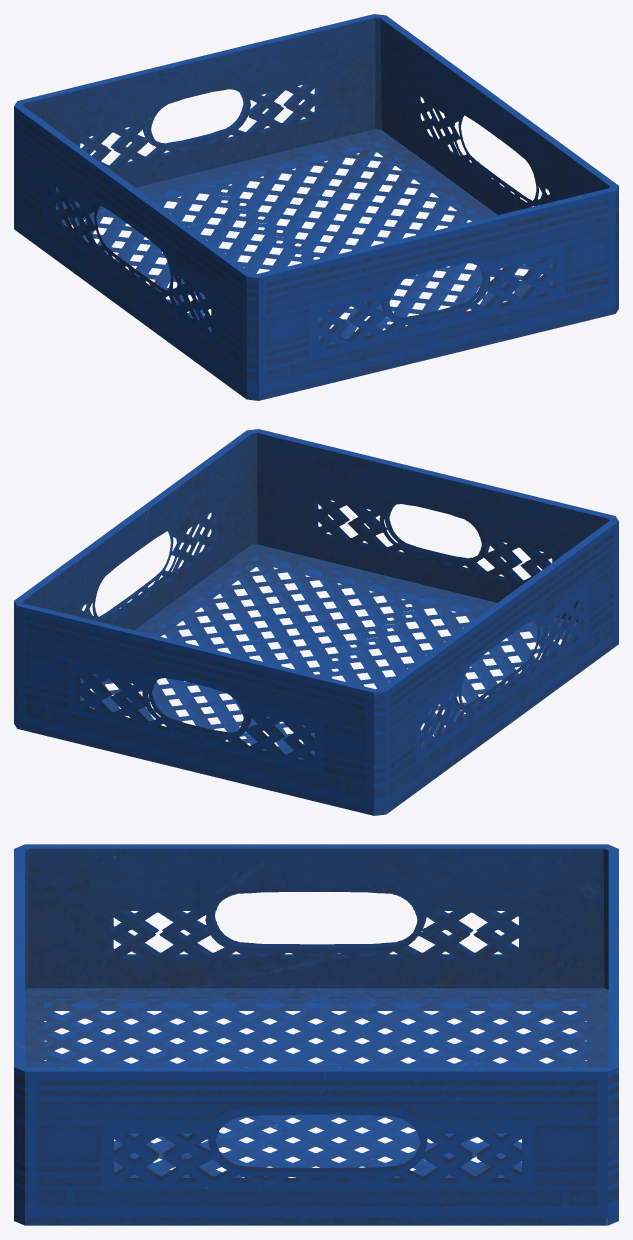
File: Prop_Vegetable_Box_Blue.fbx
3 views of the same model, one above another, from view 1: azimuth 30°, elevation 25°; view 2: azimuth 150°, elevation 25°; view 3: azimuth 270°, elevation 25° (orthographic). The views are drawn at different scales.
Parts seen in each view (by area): view 1: Prop_Vegetable_Box_Blue; view 2: Prop_Vegetable_Box_Blue; view 3: Prop_Vegetable_Box_Blue.
Part boxes in pixels (x1,y1,x2,y2): Prop_Vegetable_Box_Blue: (14, 14, 618, 400); Prop_Vegetable_Box_Blue: (14, 429, 618, 815); Prop_Vegetable_Box_Blue: (14, 844, 618, 1225).
Bounding box in the file's own units: 28.84 × 9.1 × 32.42.
